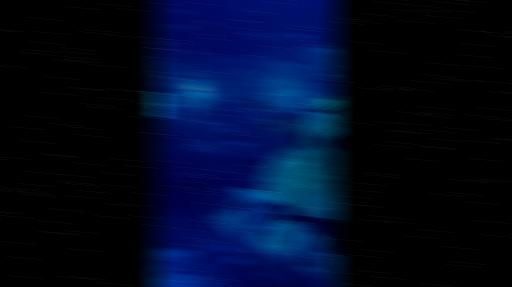Fish: (267, 112, 310, 133), (317, 219, 340, 254), (291, 122, 316, 147), (275, 203, 302, 223), (310, 96, 339, 114), (246, 98, 269, 111), (258, 262, 279, 275), (227, 201, 256, 210), (322, 135, 339, 150), (251, 158, 270, 168), (250, 28, 265, 39), (158, 122, 173, 132), (304, 255, 316, 266), (248, 131, 259, 140), (257, 119, 276, 124), (177, 24, 192, 30), (174, 9, 189, 15), (201, 21, 216, 26), (249, 176, 264, 180), (170, 25, 180, 31), (168, 62, 178, 67), (263, 88, 270, 94), (191, 52, 201, 55), (298, 23, 305, 27), (265, 38, 270, 41)
